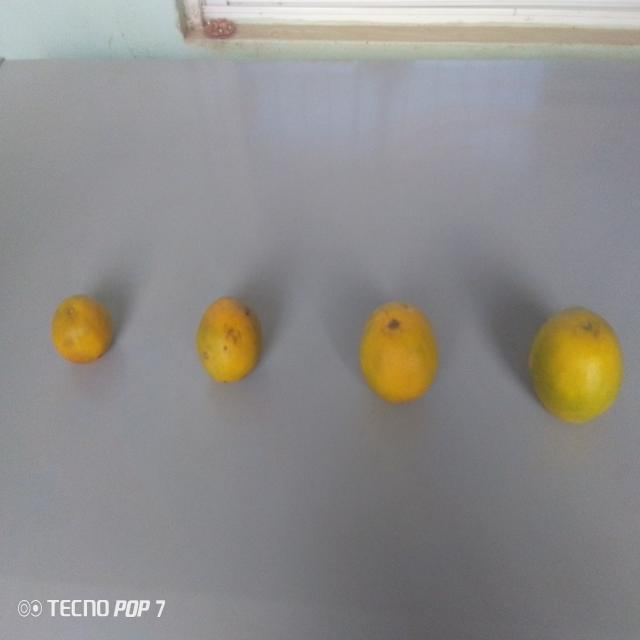Ripe orange: (524, 290, 628, 437), (361, 297, 440, 414), (184, 281, 267, 392), (46, 292, 117, 368)
